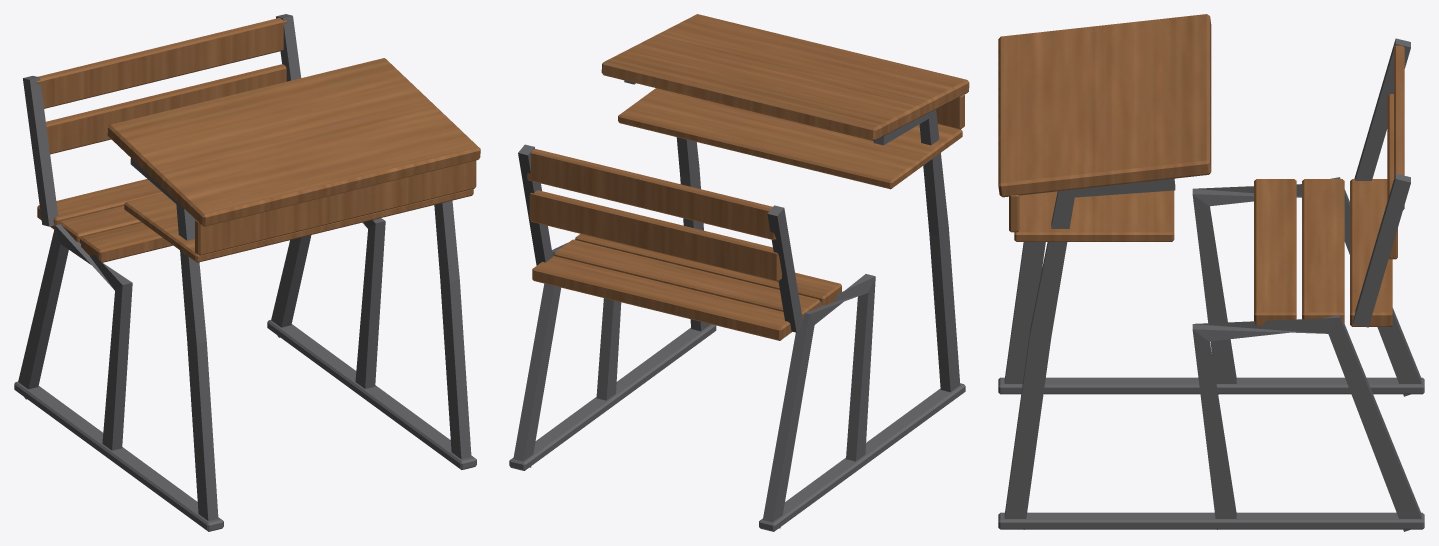
Rendered from carteira_escolar.glb.
3 views of the same model, side by side, from view 1: azimuth 30°, elevation 25°; view 2: azimuth 150°, elevation 25°; view 3: azimuth 270°, elevation 25° (orthographic). The views are drawn at different scales.
Visible parts, largest first — view 1: carteira_escolar_madeira, carteira_escolar_esmalte_escuro; view 2: carteira_escolar_madeira, carteira_escolar_esmalte_escuro; view 3: carteira_escolar_madeira, carteira_escolar_esmalte_escuro.
Boxes of the visible parts, left/top/right/bottom form: carteira_escolar_madeira: left=36, top=17, right=480, bottom=262; carteira_escolar_esmalte_escuro: left=14, top=14, right=476, bottom=531; carteira_escolar_madeira: left=527, top=14, right=969, bottom=340; carteira_escolar_esmalte_escuro: left=509, top=80, right=965, bottom=531; carteira_escolar_madeira: left=998, top=14, right=1404, bottom=326; carteira_escolar_esmalte_escuro: left=998, top=38, right=1424, bottom=531.
Bounding box in the file's own units: 0.66 × 0.775 × 0.8.
Materials: 3 (1 with a texture image).
